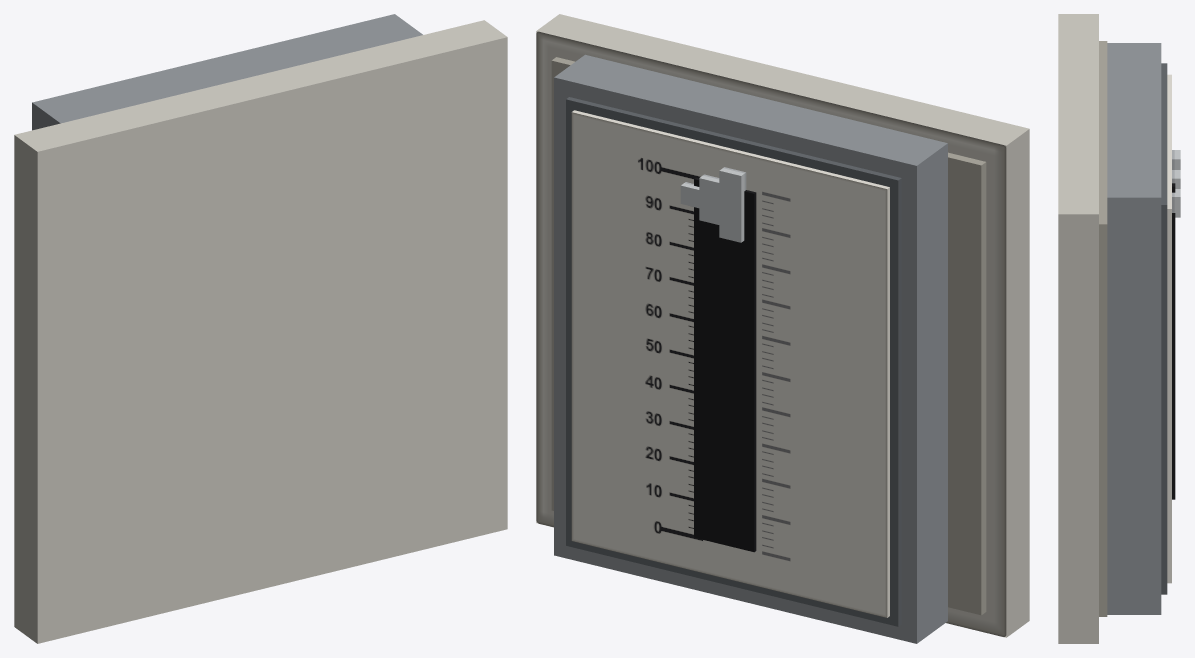
The model's file is gauge_100.obj.
3 views of the same model, side by side, from view 1: azimuth 30°, elevation 25°; view 2: azimuth 150°, elevation 25°; view 3: azimuth 270°, elevation 25° (orthographic). The views are drawn at different scales.
Parts seen in each view (by area): view 1: Panel, Frame; view 2: Face, Panel, Frame, Needle; view 3: Frame, Panel, Face, Needle.
Part boxes in pixels (x1=…): Panel: x1=14, y1=20, x2=507, y2=643; Frame: x1=32, y1=14, x2=422, y2=130; Face: x1=571, y1=110, x2=889, y2=617; Panel: x1=536, y1=14, x2=1029, y2=637; Frame: x1=554, y1=54, x2=947, y2=643; Needle: x1=680, y1=167, x2=746, y2=242; Frame: x1=1107, y1=43, x2=1167, y2=614; Panel: x1=1058, y1=14, x2=1107, y2=643; Face: x1=1167, y1=74, x2=1175, y2=583; Needle: x1=1172, y1=150, x2=1180, y2=217.
Bounding box in the file's own units: 0.875 × 0.875 × 0.2262.
Materials: 1 (1 with a texture image).
